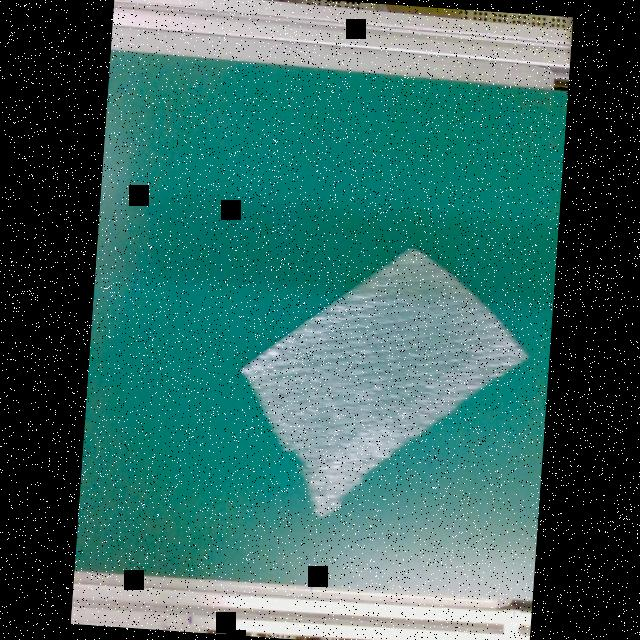scrap_plastic: (232, 235, 533, 532)
